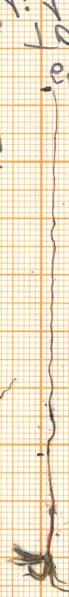flower: (0, 541, 67, 597)
root: (37, 82, 67, 450)
stem: (35, 449, 61, 548)
